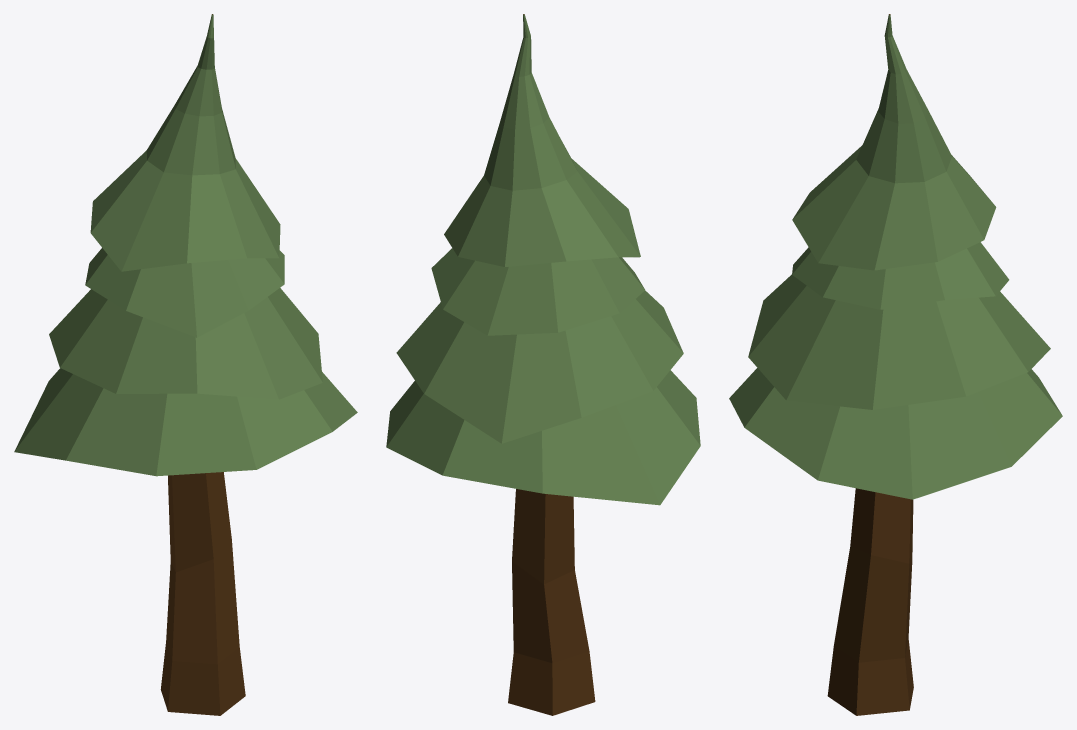
File: H_B_Tree_B.fbx
3 views of the same model, side by side, from view 1: azimuth 30°, elevation 25°; view 2: azimuth 150°, elevation 25°; view 3: azimuth 270°, elevation 25° (orthographic). The views are drawn at different scales.
Parts seen in each view (by area): view 1: H_B_Tree_B; view 2: H_B_Tree_B; view 3: H_B_Tree_B.
Boxes of the visible parts, x1,y1,x2,y2 form: H_B_Tree_B: (14,14,357,715); H_B_Tree_B: (386,14,700,715); H_B_Tree_B: (729,14,1062,715).
Size of the model in its own units: 275 by 617 by 269.
